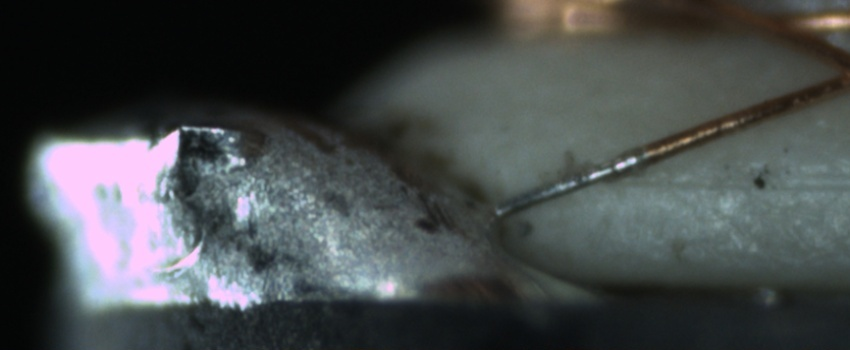DL: (601, 154, 850, 218)
TS: (491, 149, 646, 220)
